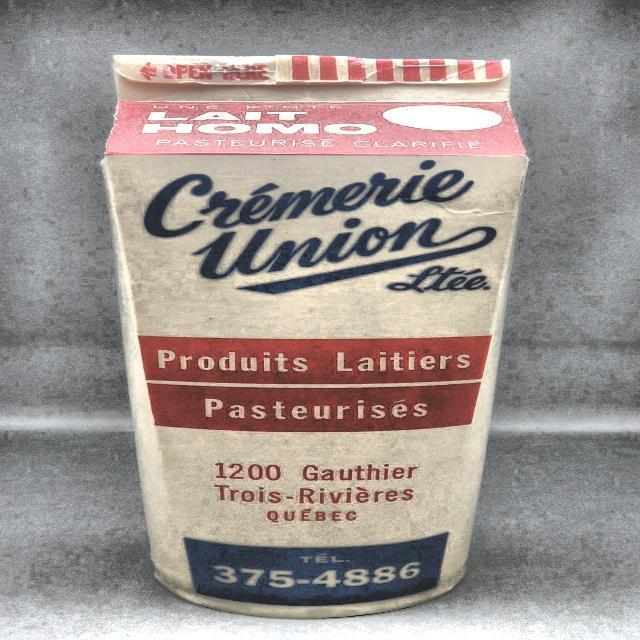cardboard: (100, 54, 530, 618)
